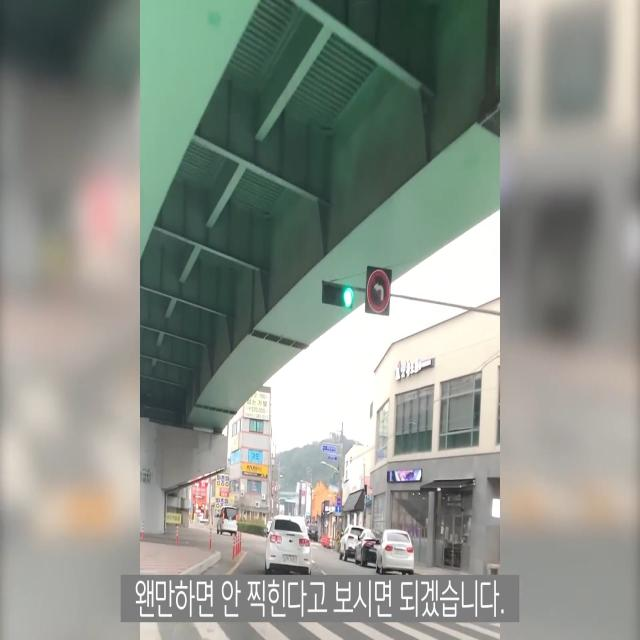Green Light: (341, 284, 354, 308)
